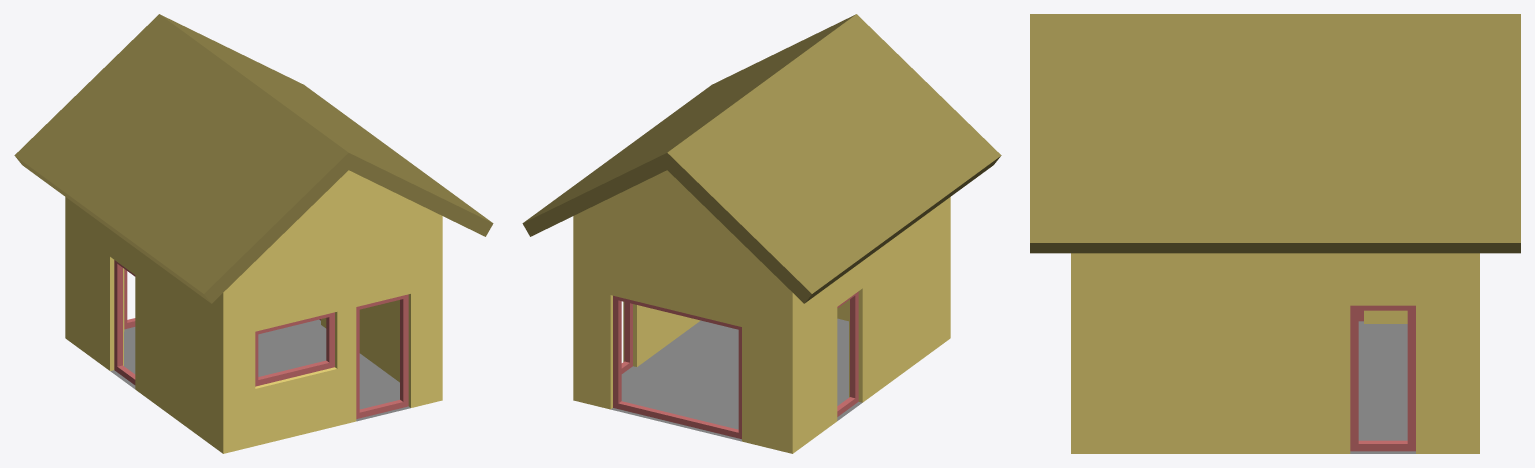
File: result.glb
3 views of the same model, side by side, from view 1: azimuth 30°, elevation 25°; view 2: azimuth 150°, elevation 25°; view 3: azimuth 270°, elevation 25° (orthographic). The views are drawn at different scales.
Visible parts, largest first — view 1: 46e88f4b-b392-4bb7-ae61-f2831b299eed__undefined, cf26f143-e8f8-4d24-9320-b159025df805__undefined (×2), 3d0708f5-ef23-4449-82b8-cfc96f0af285__Plane_6, 2895ff7b-5635-46d1-82fb-fee1a763cf00__Box, f2699225-e872-4368-840e-50e38ac03bd6__Box_3, 82ee2a69-8d76-4b3b-b60d-79a6035d120b__Box_12; view 2: cf26f143-e8f8-4d24-9320-b159025df805__undefined (×2), 46e88f4b-b392-4bb7-ae61-f2831b299eed__undefined, 3d0708f5-ef23-4449-82b8-cfc96f0af285__Plane_6, 15005eca-bfd5-49d4-a9c5-d3d188d4f2a7__Box_9, 82ee2a69-8d76-4b3b-b60d-79a6035d120b__Box_12, 102bba95-4ee7-44ba-97a1-3e980cbecfa8__Box_15; view 3: cf26f143-e8f8-4d24-9320-b159025df805__undefined, 46e88f4b-b392-4bb7-ae61-f2831b299eed__undefined, 3d0708f5-ef23-4449-82b8-cfc96f0af285__Plane_6, 102bba95-4ee7-44ba-97a1-3e980cbecfa8__Box_15.
Part boxes in pixels (box(x1,y1,x2,y2)): 46e88f4b-b392-4bb7-ae61-f2831b299eed__undefined: box(65, 170, 442, 453); cf26f143-e8f8-4d24-9320-b159025df805__undefined (×2): box(14, 14, 493, 303); 3d0708f5-ef23-4449-82b8-cfc96f0af285__Plane_6: box(110, 319, 410, 421); 2895ff7b-5635-46d1-82fb-fee1a763cf00__Box: box(356, 294, 408, 418); f2699225-e872-4368-840e-50e38ac03bd6__Box_3: box(255, 312, 334, 386); 82ee2a69-8d76-4b3b-b60d-79a6035d120b__Box_12: box(114, 260, 135, 384); cf26f143-e8f8-4d24-9320-b159025df805__undefined (×2): box(522, 14, 1001, 303); 46e88f4b-b392-4bb7-ae61-f2831b299eed__undefined: box(573, 170, 950, 453); 3d0708f5-ef23-4449-82b8-cfc96f0af285__Plane_6: box(611, 318, 862, 441); 15005eca-bfd5-49d4-a9c5-d3d188d4f2a7__Box_9: box(613, 295, 741, 439); 82ee2a69-8d76-4b3b-b60d-79a6035d120b__Box_12: box(837, 291, 858, 416); 102bba95-4ee7-44ba-97a1-3e980cbecfa8__Box_15: box(621, 302, 632, 373); cf26f143-e8f8-4d24-9320-b159025df805__undefined: box(1030, 14, 1520, 253); 46e88f4b-b392-4bb7-ae61-f2831b299eed__undefined: box(1071, 253, 1479, 453); 3d0708f5-ef23-4449-82b8-cfc96f0af285__Plane_6: box(1350, 321, 1415, 453); 102bba95-4ee7-44ba-97a1-3e980cbecfa8__Box_15: box(1350, 305, 1415, 451).
Bounding box in the file's own units: 530 × 500 × 600.
